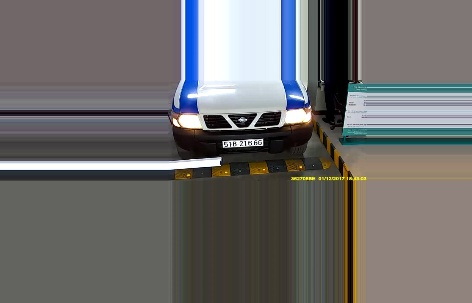plate: (219, 137, 264, 151)
